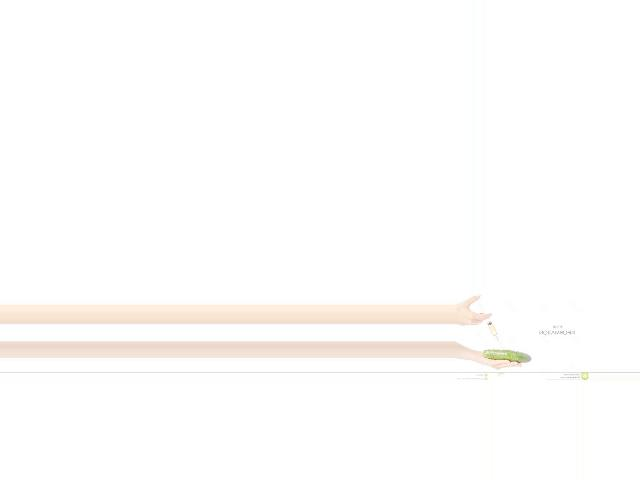cucumber: (482, 350, 530, 363)
